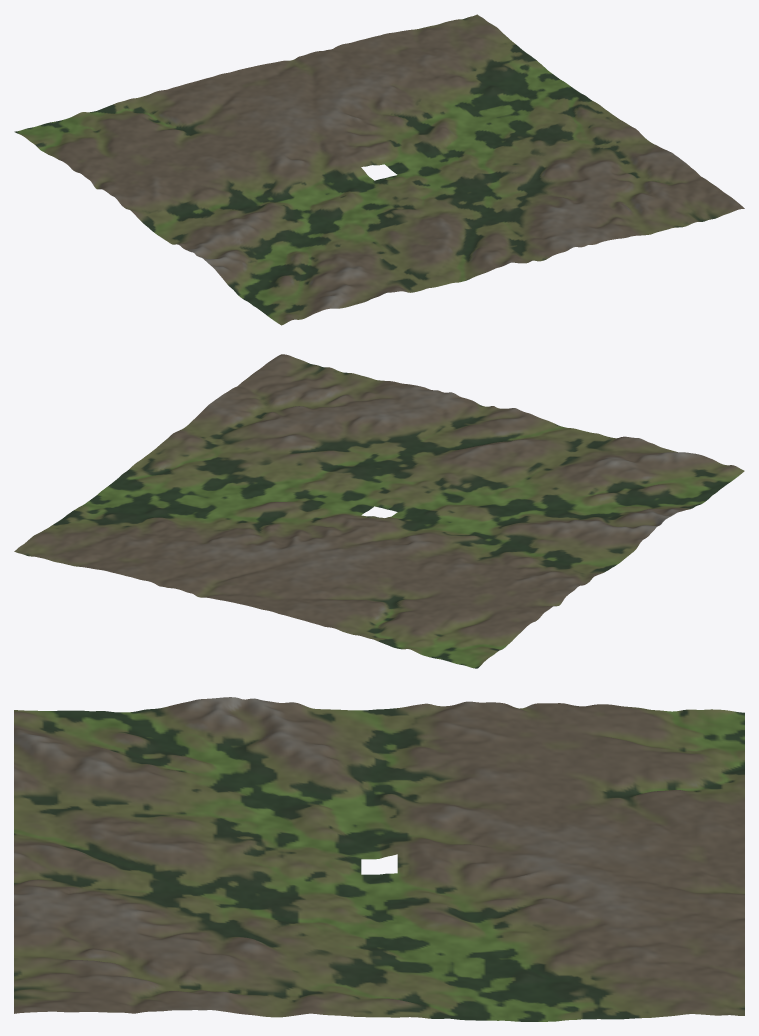
The model's file is backdrop.glb.
3 views of the same model, one above another, from view 1: azimuth 30°, elevation 25°; view 2: azimuth 150°, elevation 25°; view 3: azimuth 270°, elevation 25° (orthographic). The views are drawn at different scales.
Visible parts, largest first — view 1: Backdrop; view 2: Backdrop; view 3: Backdrop.
Boxes of the visible parts, left/top/right/bottom form: Backdrop: left=14, top=14, right=744, bottom=325; Backdrop: left=14, top=354, right=744, bottom=668; Backdrop: left=14, top=697, right=744, bottom=1021.
Size of the model in its own units: 36000 by 879 by 36000.
